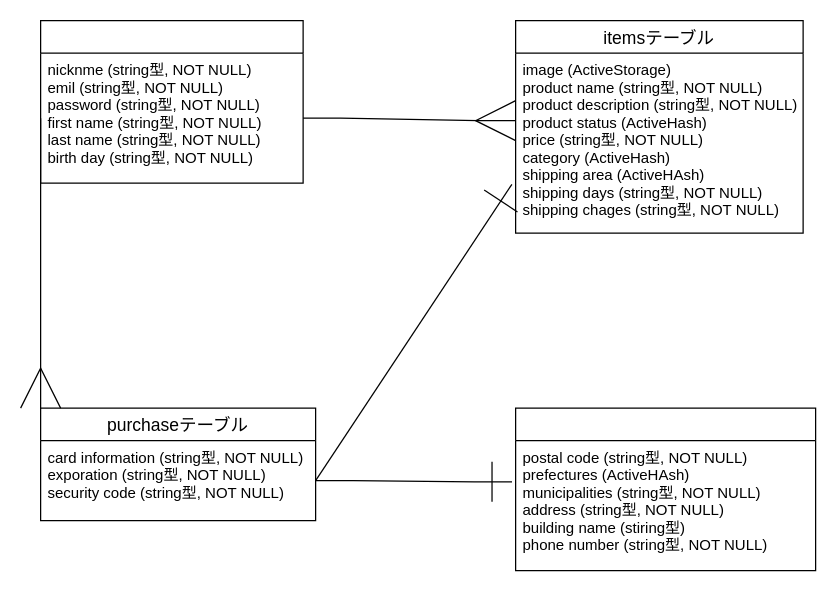
Image size: 836x591. Some labels were removed from this diagram. Here are the shapes that lost their labels. From the top down, the box of each, then its label:
(39, 19, 303, 183): usersテーブル
(514, 407, 816, 571): shipping addressテーブル
